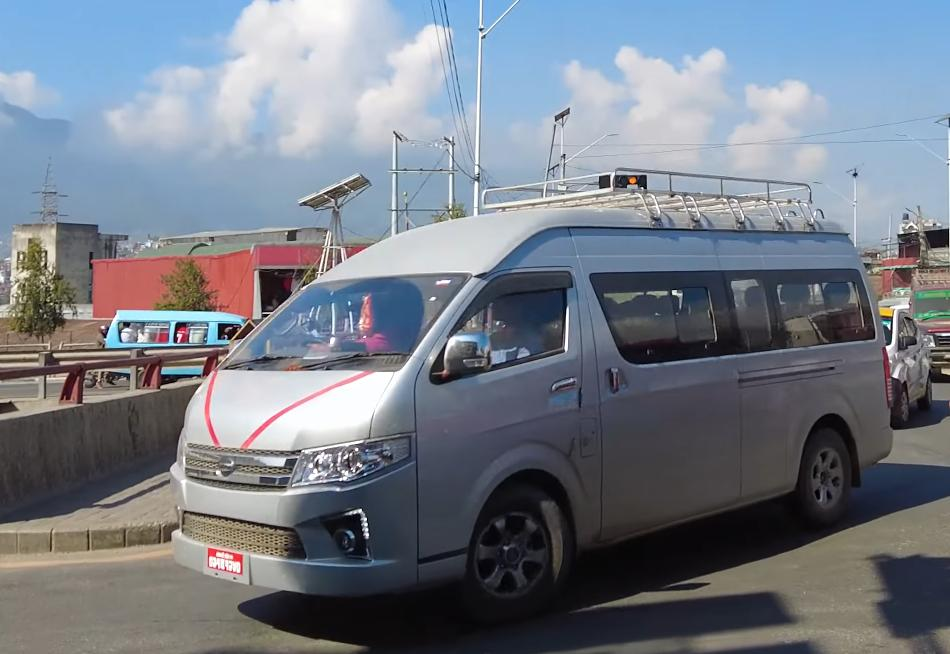micro_bus: (154, 167, 913, 628)
taxi: (866, 304, 939, 431)
